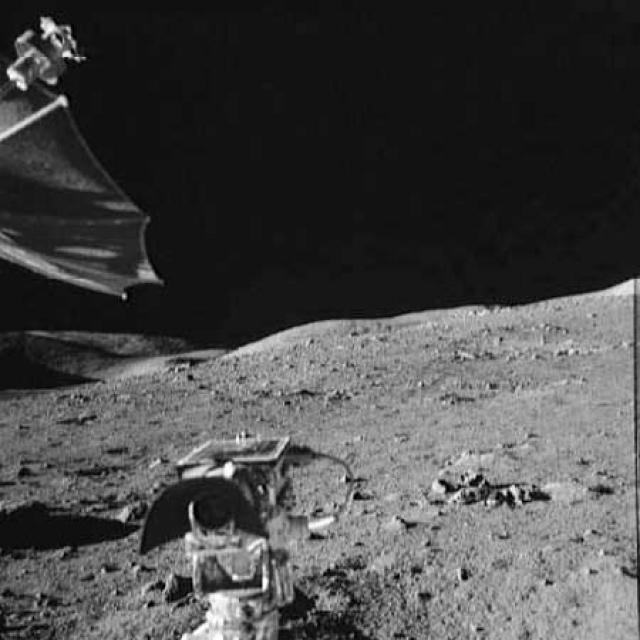artifact: (0, 8, 175, 312), (134, 419, 364, 639)
crater: (0, 500, 136, 554)
rock: (418, 461, 495, 508), (504, 478, 538, 510)
